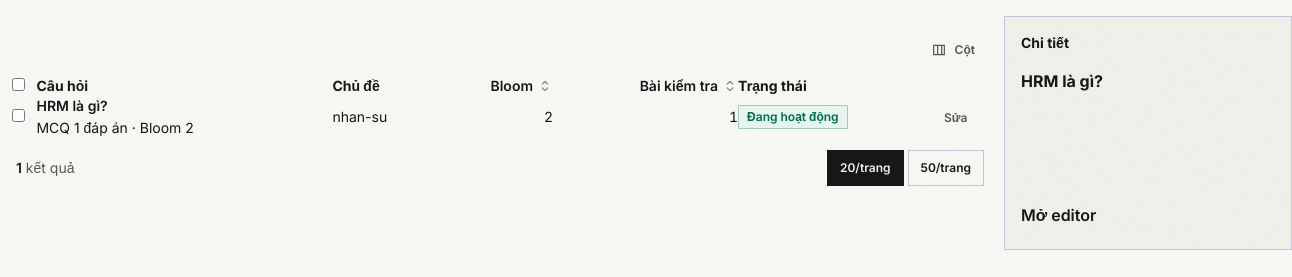
BankWorkspace › selects a row and shows it in the inspector
The width and height of the screenshot is (1292, 277).
Click the checkbox named "Chọn: HRM là gì?" at [18, 116], box [12,109,25,122]
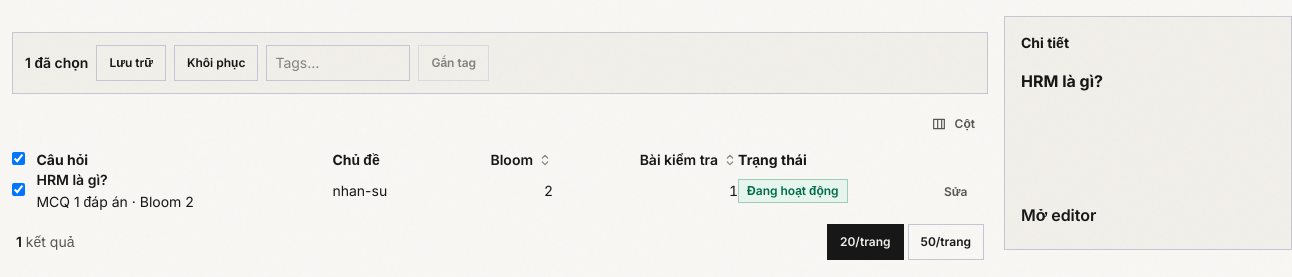
Expected: the text "1 đã chọn" is shown, [25,53,88,73]
Expected: the button "Lưu trữ" is shown, [96,45,166,81]
Expected: the button "Khôi phục" is shown, [174,45,258,81]
